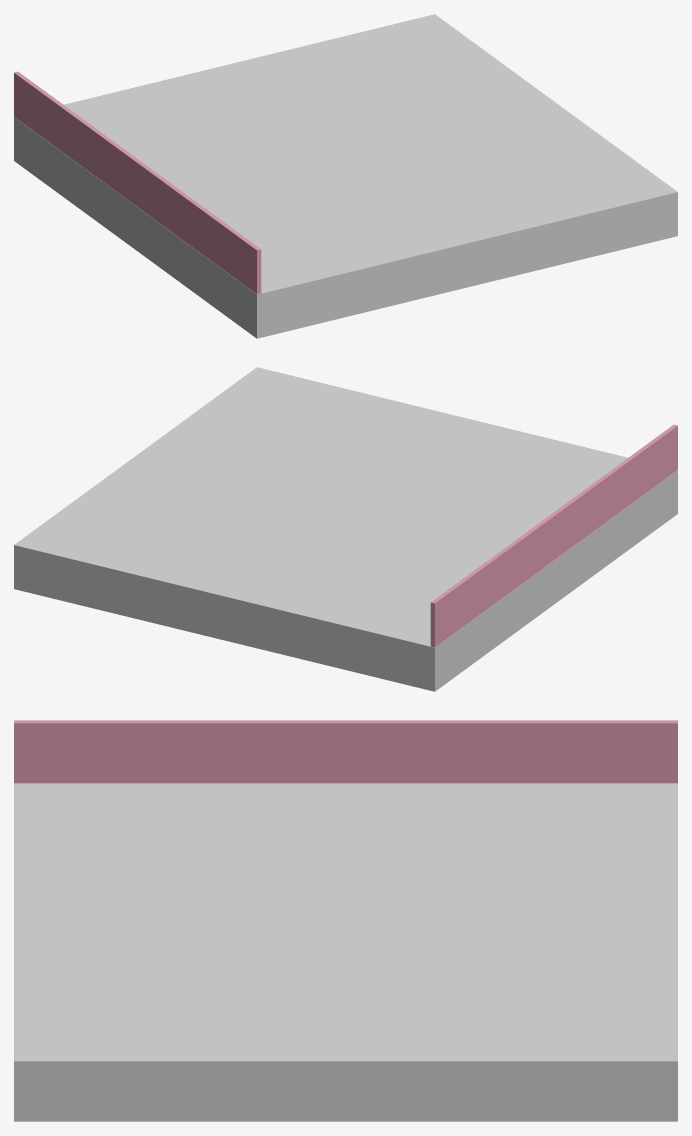
File: SpinCoatingAnimation.fbx
3 renders of one model, top to bottom at view 1: azimuth 30°, elevation 25°; view 2: azimuth 150°, elevation 25°; view 3: azimuth 270°, elevation 25°, orthographic. The views are drawn at different scales.
Visible parts, largest first — view 1: Wafer_Base, Coat_1; view 2: Wafer_Base, Coat_1; view 3: Wafer_Base, Coat_1.
Part boxes in pixels (x1=…): Wafer_Base: x1=14, y1=14, x2=677, y2=338; Coat_1: x1=14, y1=71, x2=261, y2=294; Wafer_Base: x1=14, y1=367, x2=677, y2=691; Coat_1: x1=430, y1=424, x2=677, y2=647; Wafer_Base: x1=14, y1=783, x2=677, y2=1121; Coat_1: x1=14, y1=720, x2=677, y2=783.
Bounding box in the file's own units: 200 × 40.1 × 200.
